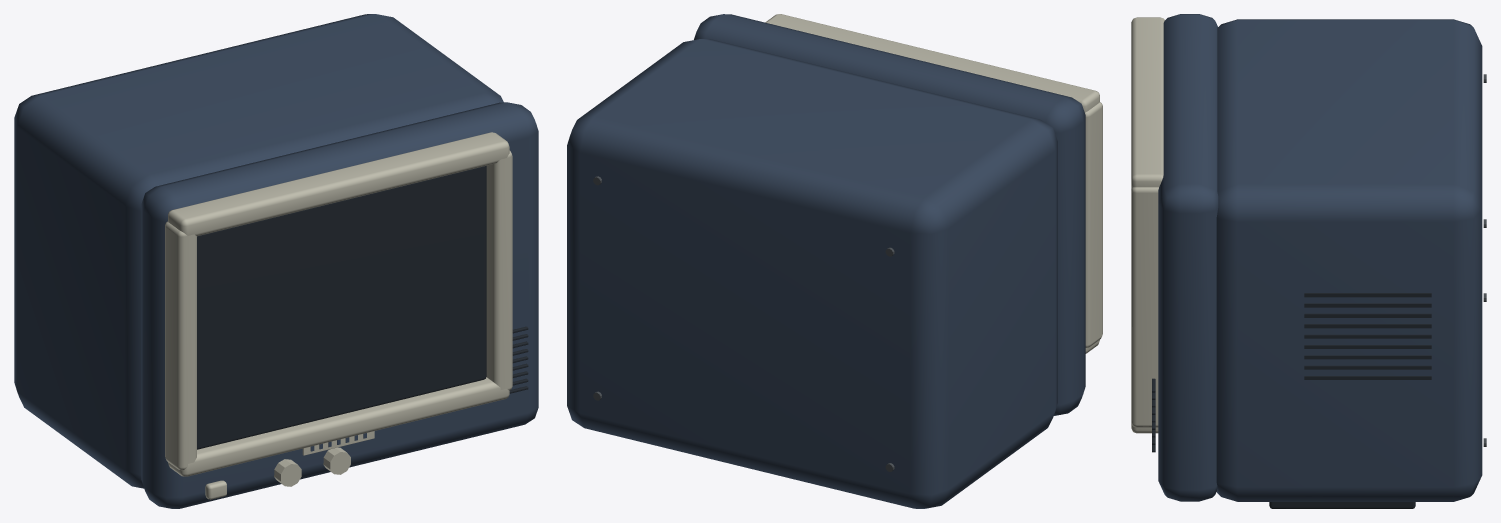
File: crt.glb
3 renders of one model, left to right at view 1: azimuth 30°, elevation 25°; view 2: azimuth 150°, elevation 25°; view 3: azimuth 270°, elevation 25°, orthographic.
Parts seen in each view (by area): view 1: rear shell, screen backing, front fascia, bezel top, bezel bottom, bezel left, bezel right, control knob, control knob.001; view 2: rear shell, front fascia, bezel top, bezel left; view 3: rear shell, front fascia, bezel right, bezel top, rubber foot.001, side ventilation.001, side ventilation.002, side ventilation.004, side ventilation.005, side ventilation.006, side ventilation.007, side ventilation.008 (+2 smaller).
Part boxes in pixels (x1,y1,x2,y2): rear shell: (14, 14, 503, 488); screen backing: (197, 166, 486, 449); front fascia: (141, 102, 538, 508); bezel top: (168, 132, 509, 236); bezel bottom: (168, 377, 509, 476); bezel left: (165, 221, 196, 470); bezel right: (486, 150, 512, 390); control knob: (274, 459, 301, 486); control knob.001: (323, 447, 350, 474); rear shell: (567, 39, 1057, 508); front fascia: (694, 14, 1085, 415); bezel top: (765, 14, 1099, 112); bezel left: (1085, 102, 1102, 347); rear shell: (1216, 19, 1482, 501); front fascia: (1158, 14, 1218, 501); bezel right: (1131, 187, 1158, 427); bezel top: (1131, 17, 1164, 188); rubber foot.001: (1269, 502, 1415, 508); side ventilation.001: (1304, 365, 1431, 369); side ventilation.002: (1304, 355, 1431, 359); side ventilation.004: (1304, 334, 1431, 338); side ventilation.005: (1304, 324, 1431, 328); side ventilation.006: (1304, 313, 1431, 317); side ventilation.007: (1304, 303, 1431, 307); side ventilation.008: (1304, 293, 1431, 297).
Bounding box in the file's own units: 0.7025 × 0.592 × 0.5595.
